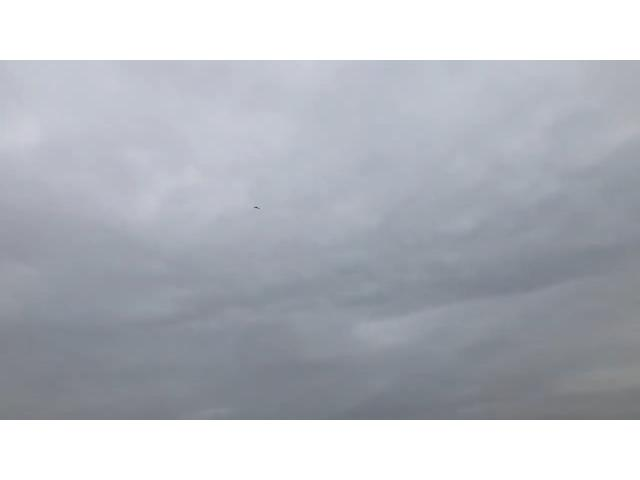Anti-Drone: (244, 202, 268, 212)
